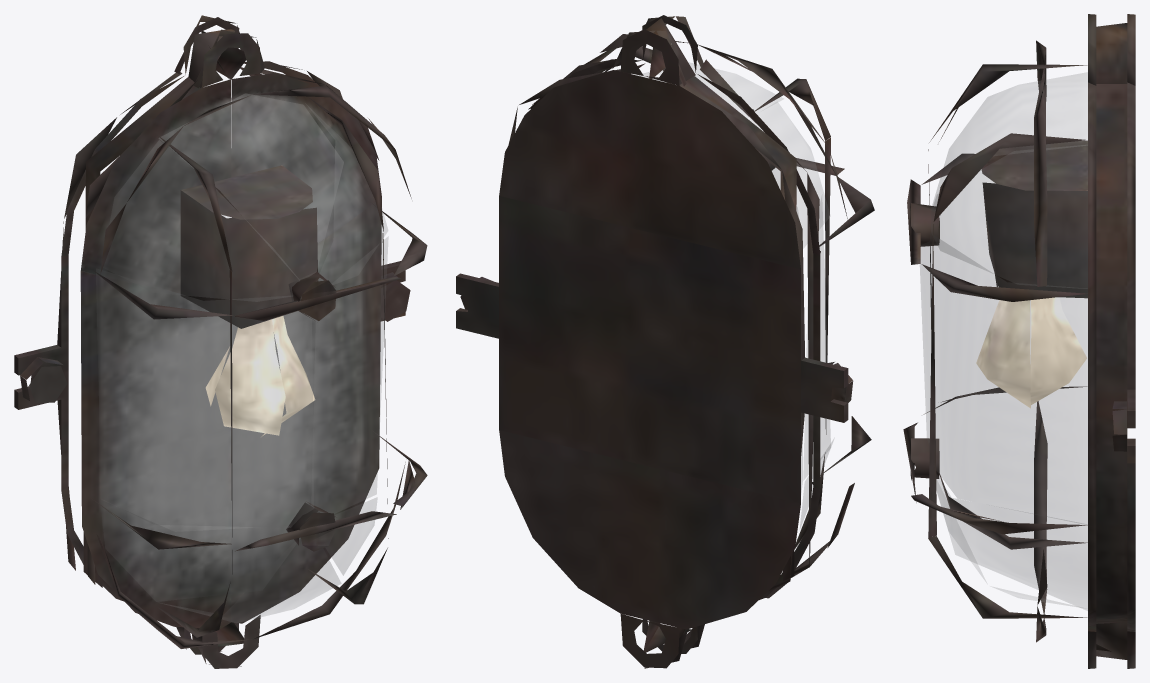
Rendered from wall_lamp.glb.
3 renders of one model, left to right at view 1: azimuth 30°, elevation 25°; view 2: azimuth 150°, elevation 25°; view 3: azimuth 270°, elevation 25°, orthographic.
Visible parts, largest first — view 1: wall_lamp; view 2: wall_lamp; view 3: wall_lamp.
Boxes of the visible parts, x1=… form: wall_lamp: x1=14, y1=15, x2=427, y2=668; wall_lamp: x1=456, y1=15, x2=874, y2=668; wall_lamp: x1=903, y1=14, x2=1135, y2=668.
Bounding box in the file's own units: 0.2735 × 0.432 × 0.1403.
Materials: 2 (2 with a texture image).
